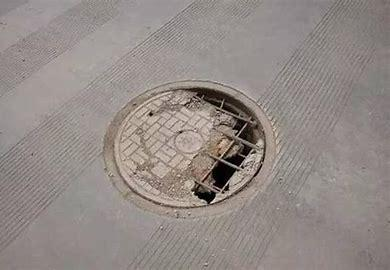wellcover: (107, 78, 278, 212)
